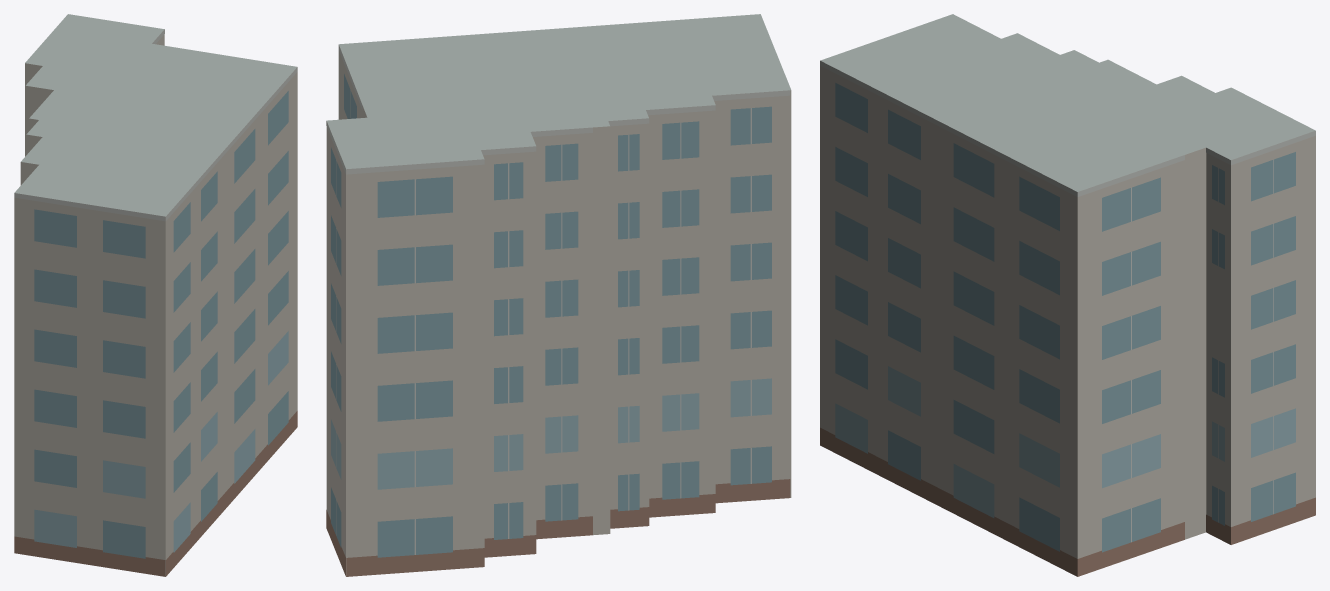
File: survey-upis-32923173.glb
3 views of the same model, side by side, from view 1: azimuth 30°, elevation 25°; view 2: azimuth 150°, elevation 25°; view 3: azimuth 270°, elevation 25° (orthographic). The views are drawn at different scales.
Visible parts, largest first — view 1: survey-upis-32923173.tmp; view 2: survey-upis-32923173.tmp; view 3: survey-upis-32923173.tmp.
Part boxes in pixels (box(x1,y1,x2,y2)): survey-upis-32923173.tmp: box(14, 14, 297, 576); survey-upis-32923173.tmp: box(326, 14, 791, 576); survey-upis-32923173.tmp: box(820, 14, 1315, 576).
Size of the model in its own units: 18.27 by 18.4 by 21.49.
